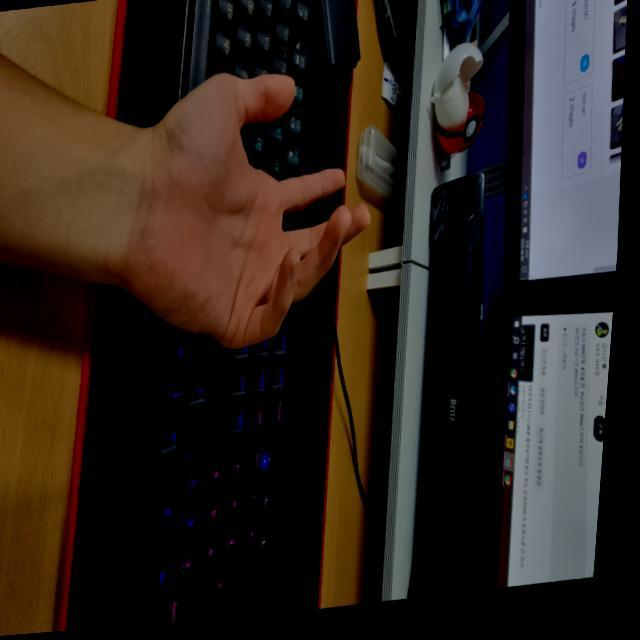keyboard-with-hands: (141, 1, 320, 622)
